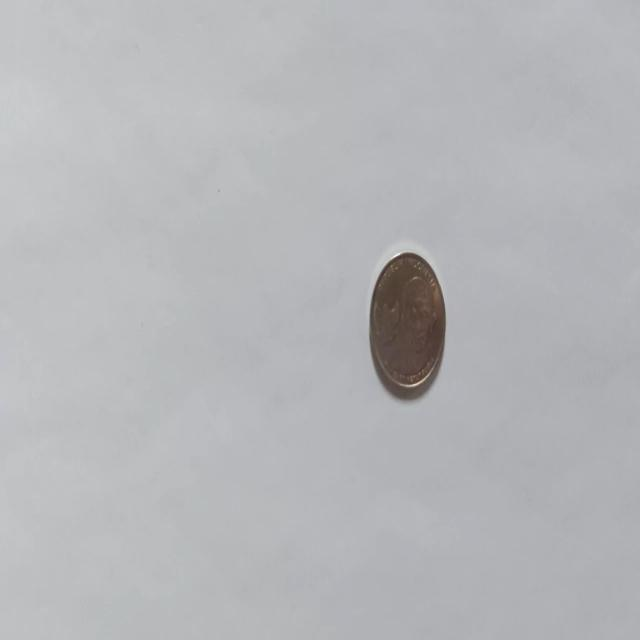seribu rupiah koin: (368, 248, 447, 395)
